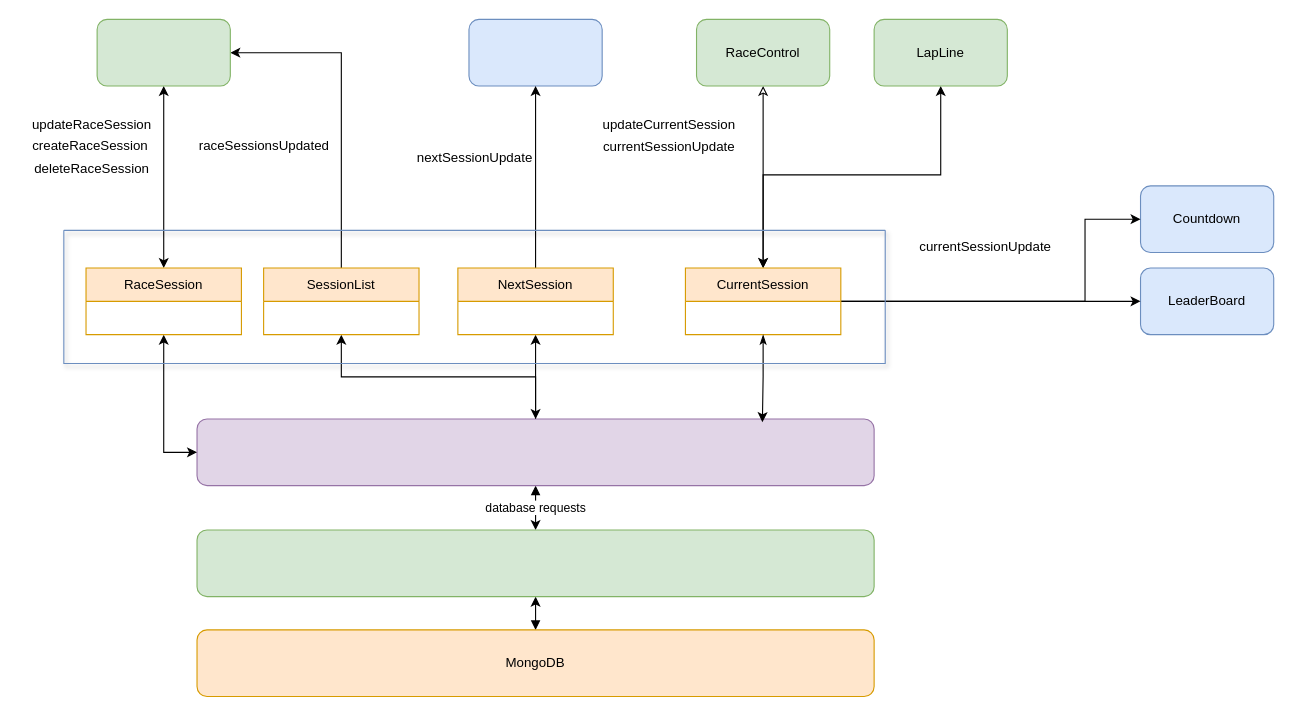
The diagram is 1293 pixels wide and 716 high, and some of its shapes have lost their labels. The shapes that lost their labels are listed below. From the top down, each one's centre as x and y in pixels, then its label:
At point (163, 52): "FrontDesk".
At point (535, 52): "NextRace".
At point (475, 298): "Data".
At point (535, 452): "socket.js".
At point (535, 563): "raceSessionService".
